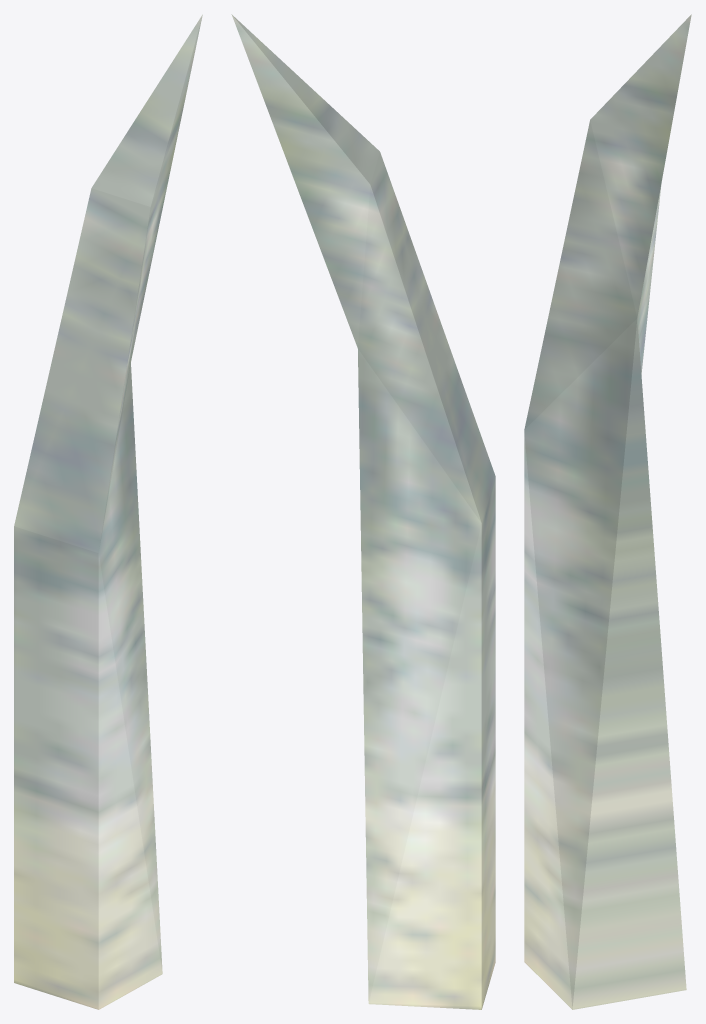
Rendered from rib21.glb.
3 renders of one model, left to right at view 1: azimuth 30°, elevation 25°; view 2: azimuth 150°, elevation 25°; view 3: azimuth 270°, elevation 25°, orthographic. The views are drawn at different scales.
Parts seen in each view (by area): view 1: rib21; view 2: rib21; view 3: rib21.
Part boxes in pixels (x1,y1,x2,y2): rib21: [14, 14, 202, 1009]; rib21: [231, 14, 495, 1009]; rib21: [524, 14, 691, 1009].
Bounding box in the file's own units: 586 × 2379 × 345.
1 material, 1 textured.
